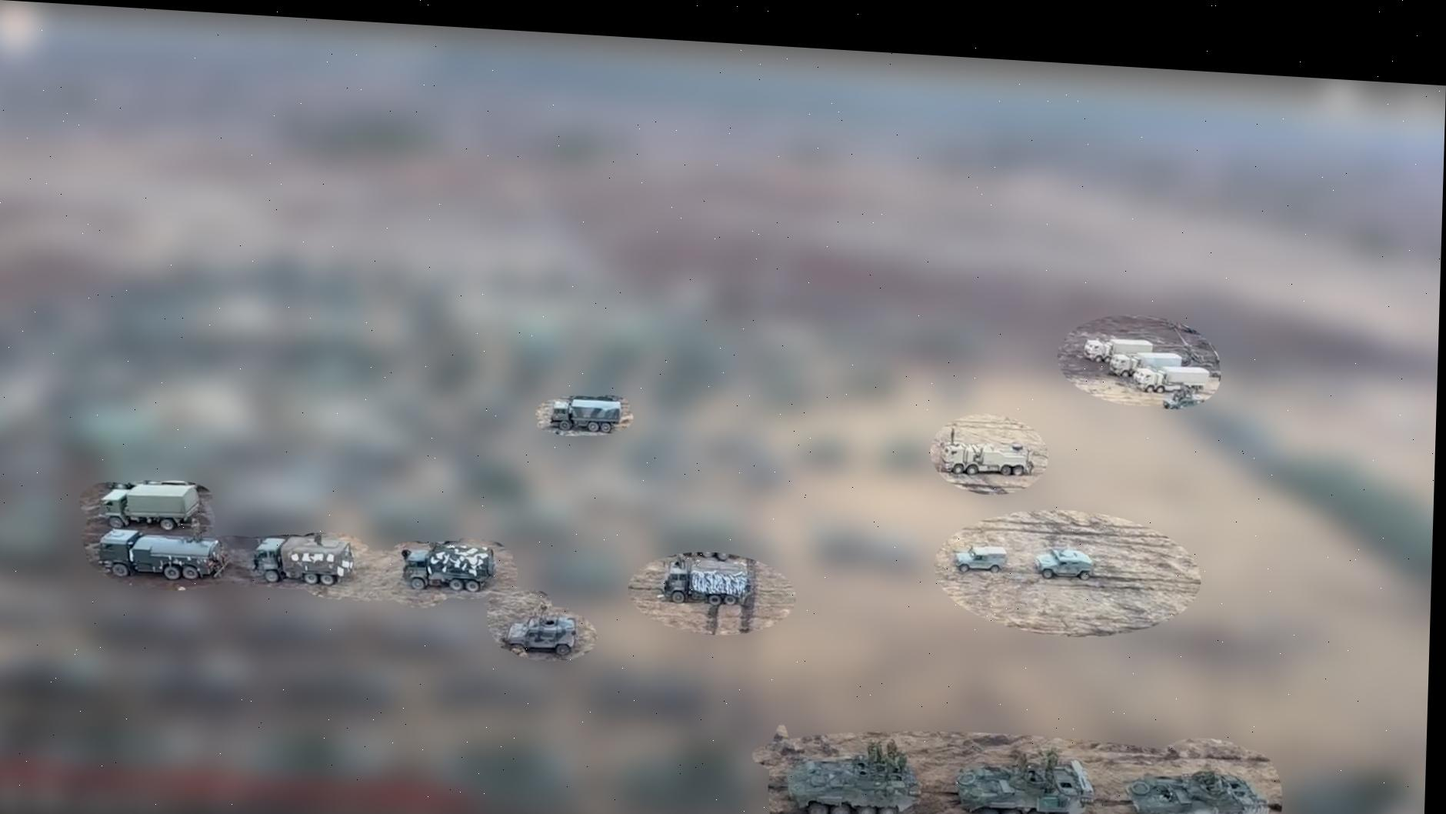armored_car: (783, 749, 924, 814), (954, 752, 1097, 814), (1120, 760, 1269, 814), (503, 611, 578, 657), (1036, 547, 1094, 581), (956, 545, 1009, 575)
truck: (95, 529, 226, 586), (251, 531, 355, 589), (96, 477, 201, 533), (401, 540, 497, 596), (658, 557, 753, 611), (938, 439, 1035, 479), (548, 396, 624, 435), (1131, 363, 1210, 397)
